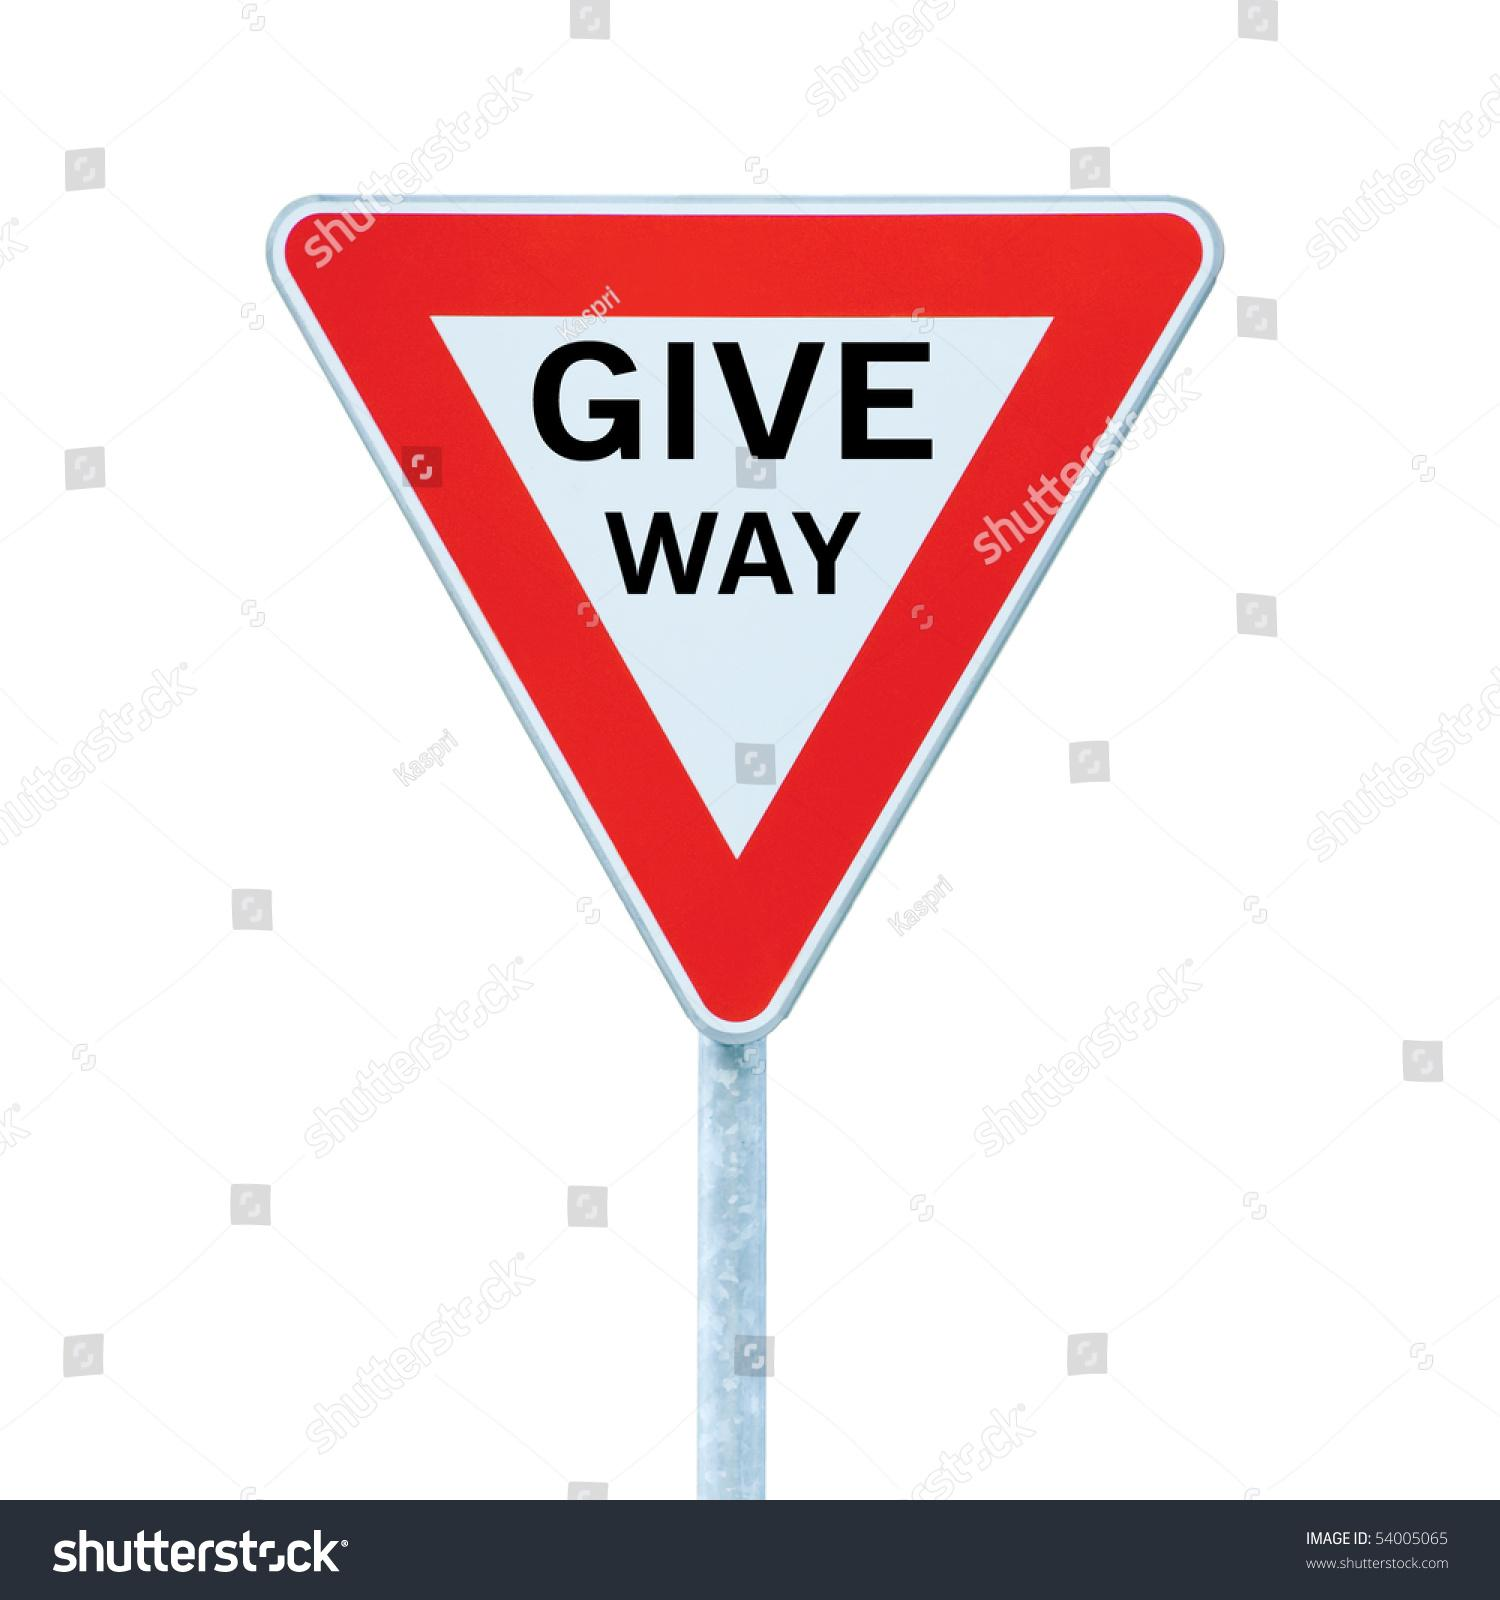Give Way: (264, 137, 1215, 1053)
